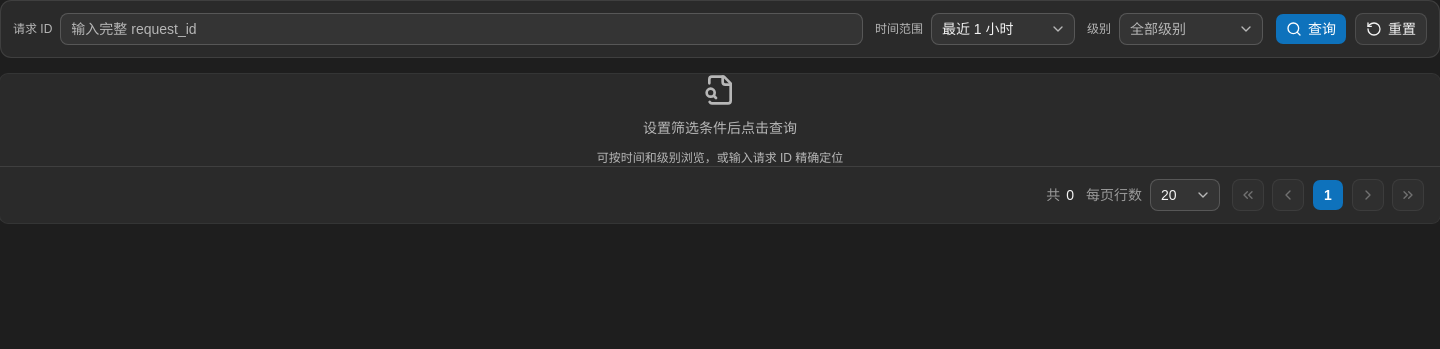
首次查询没有结果时仍可更改每页行数并从首页重新查询
The width and height of the screenshot is (1440, 349).
Type "request-page-test" into the field named "request_id". click: coordinates (462, 29)
box: [60,13,863,45]
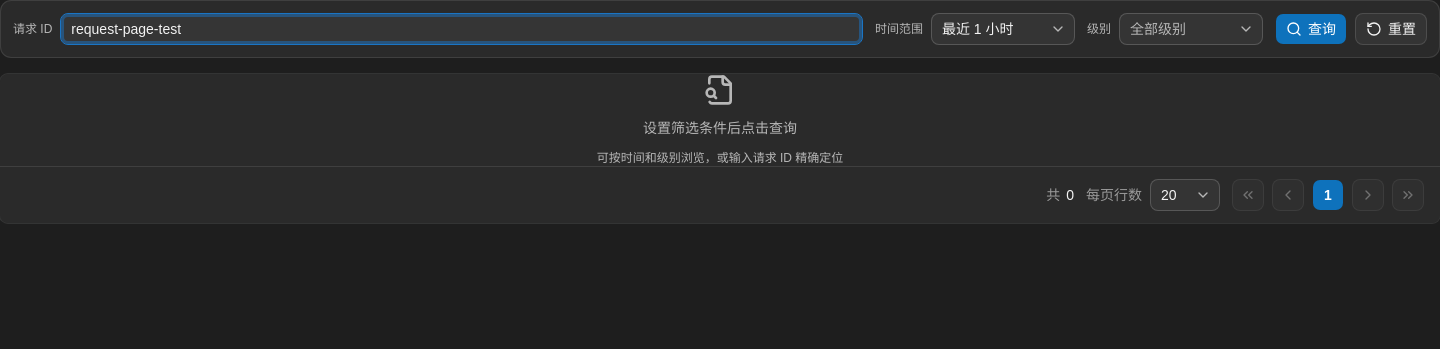
Click the button "查询". click: coordinates (1311, 29)
box: [1275,13,1347,45]
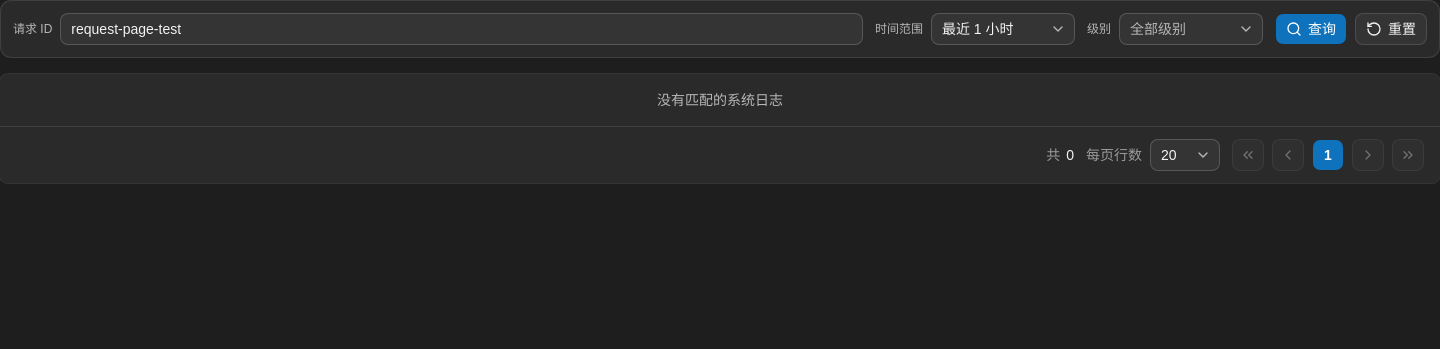
Result: the text "没有匹配的系统日志" is shown at [657,92,783,108]
Click the dropdown named "每页行数". click: coordinates (1185, 155)
box: [1150,139,1220,171]
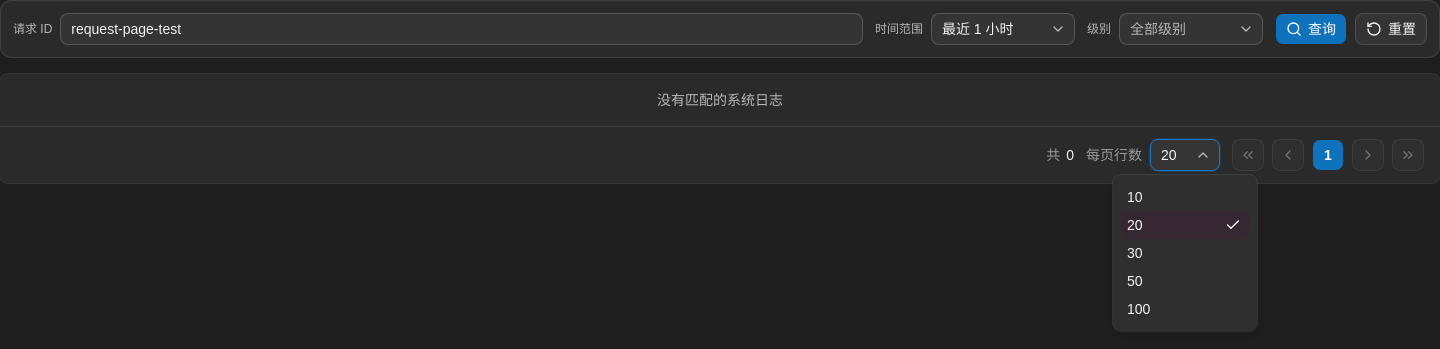
Click the option "10". click: coordinates (1135, 197)
box: [1127,189,1143,205]
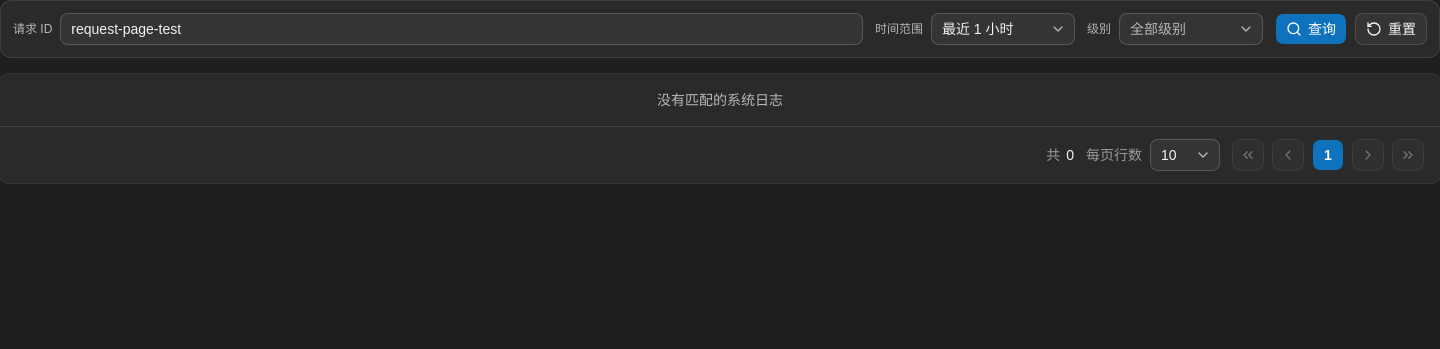
Result: the dropdown named "每页行数" shows "10" at [1150,139,1220,171]
